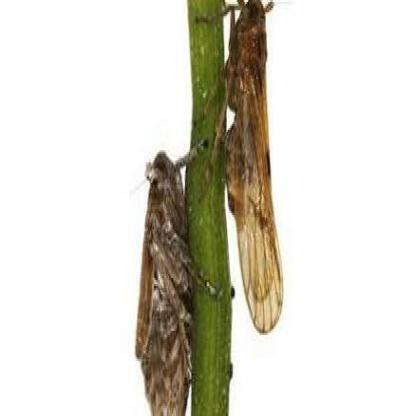brown-planthopper: (223, 1, 285, 335), (132, 142, 192, 416)
